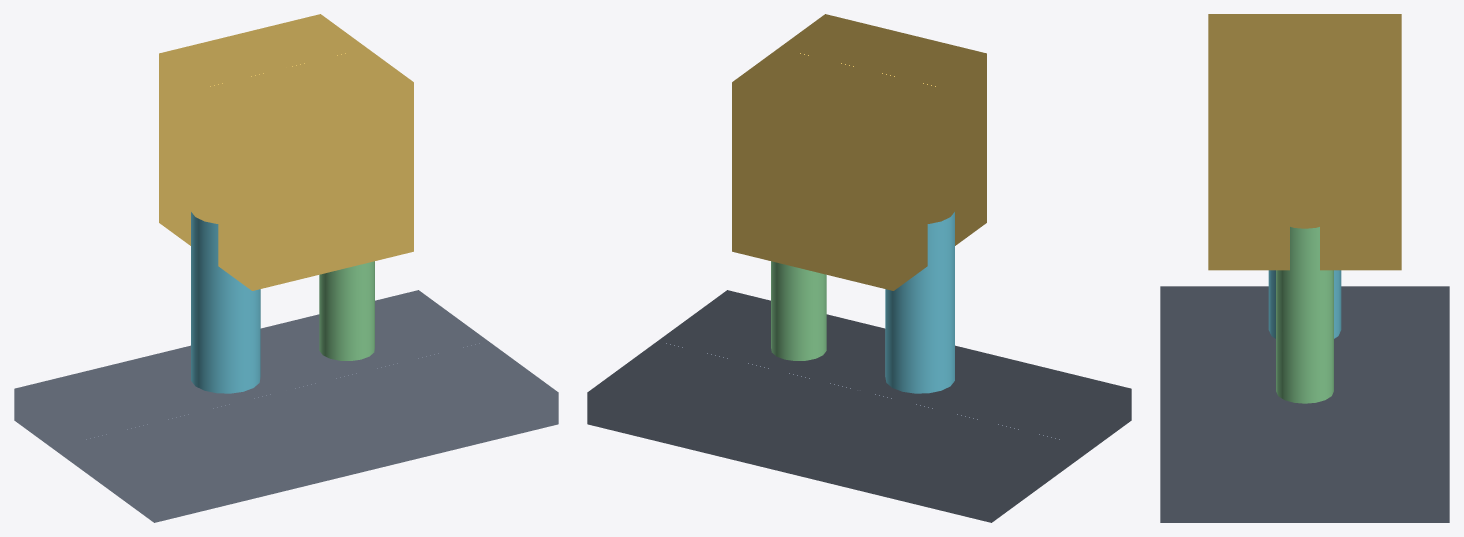
The model's file is vibrations.glb.
3 views of the same model, side by side, from view 1: azimuth 30°, elevation 25°; view 2: azimuth 150°, elevation 25°; view 3: azimuth 270°, elevation 25° (orthographic). The views are drawn at different scales.
Visible parts, largest first — view 1: BasePlate, VibratingMass, SpringCoil, DamperCylinder; view 2: BasePlate, VibratingMass, SpringCoil, DamperCylinder; view 3: BasePlate, VibratingMass, DamperCylinder, SpringCoil.
Boxes of the visible parts, left/top/right/bottom form: BasePlate: left=14, top=290, right=558, bottom=522; VibratingMass: left=159, top=14, right=413, bottom=290; SpringCoil: left=191, top=212, right=260, bottom=393; DamperCylinder: left=319, top=261, right=374, bottom=360; BasePlate: left=587, top=290, right=1131, bottom=522; VibratingMass: left=732, top=14, right=986, bottom=290; SpringCoil: left=885, top=212, right=954, bottom=393; DamperCylinder: left=771, top=261, right=826, bottom=360; BasePlate: left=1160, top=286, right=1449, bottom=522; VibratingMass: left=1208, top=14, right=1401, bottom=270; DamperCylinder: left=1276, top=227, right=1333, bottom=403; SpringCoil: left=1268, top=270, right=1341, bottom=338.
Size of the model in its own units: 2 by 1.68 by 1.2.
